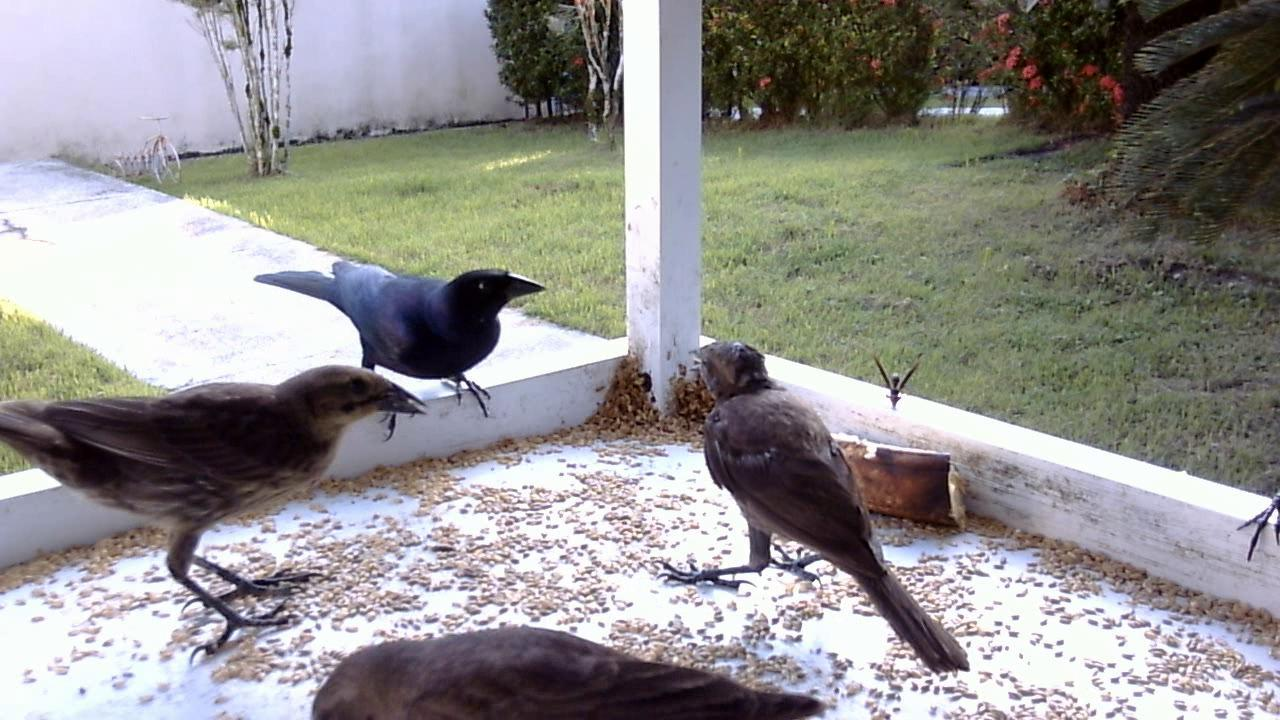chupim: (4, 327, 419, 674), (646, 341, 971, 685), (291, 600, 860, 710), (249, 244, 550, 434)
